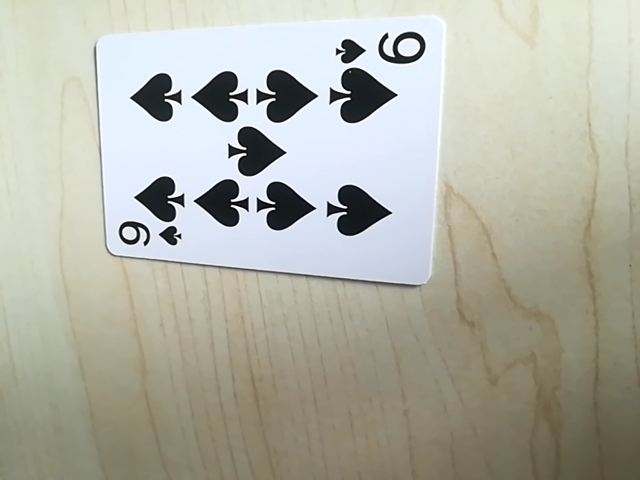ht 9: (333, 21, 430, 68), (111, 220, 186, 257)
